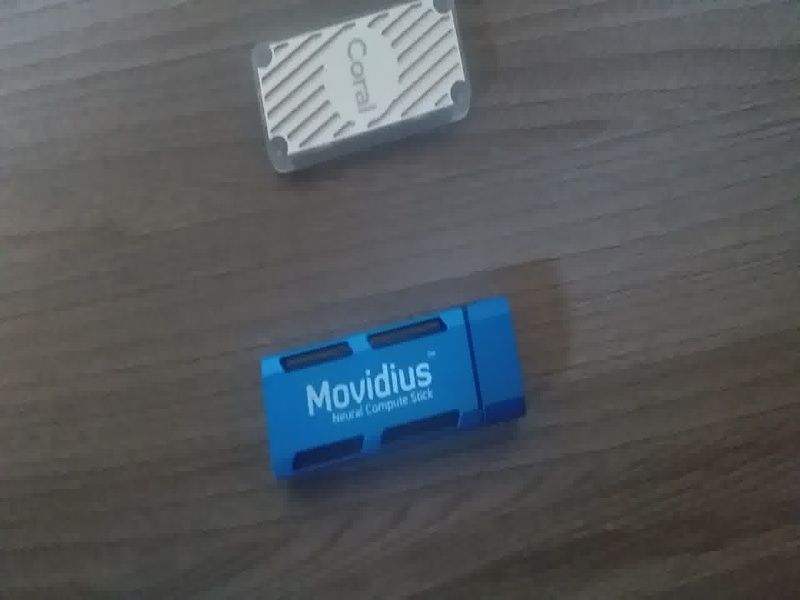coral: (232, 3, 484, 179)
movidius: (245, 290, 533, 488)
